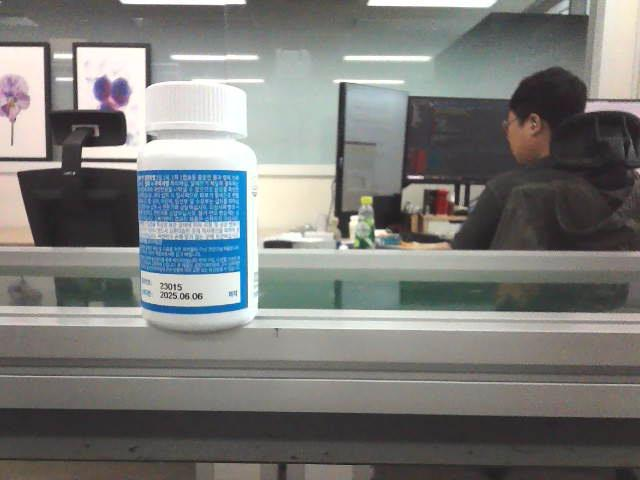labeled: (134, 79, 265, 334)
